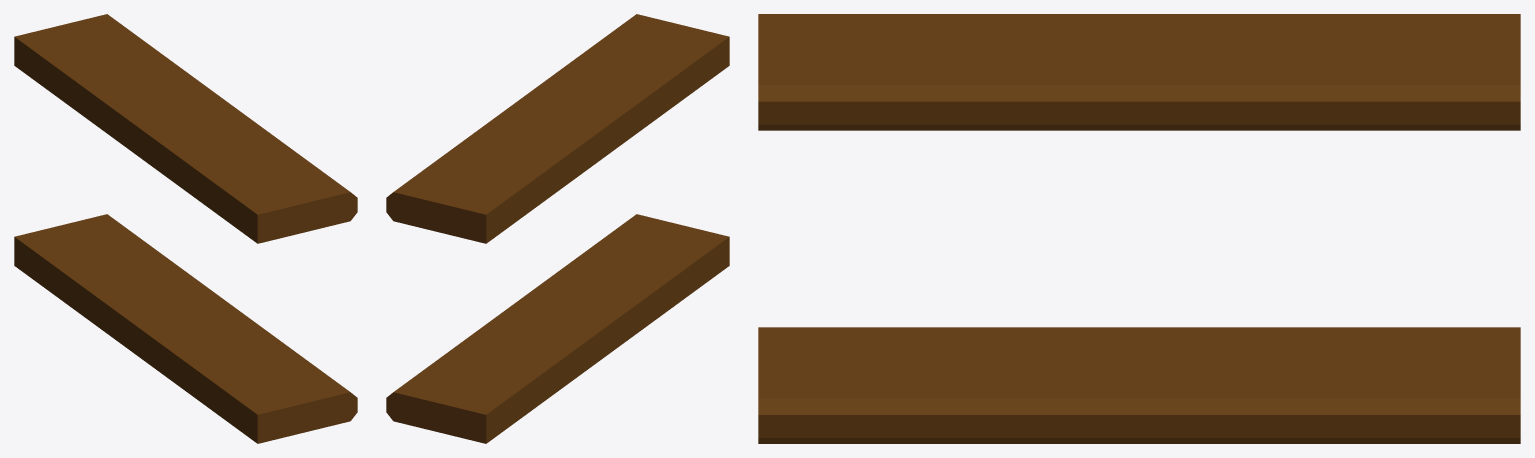
Rendered from SM_Shelves_v2.fbx.
3 views of the same model, side by side, from view 1: azimuth 30°, elevation 25°; view 2: azimuth 150°, elevation 25°; view 3: azimuth 270°, elevation 25° (orthographic). The views are drawn at different scales.
Visible parts, largest first — view 1: SM_Shelves_v2; view 2: SM_Shelves_v2; view 3: SM_Shelves_v2.
Part boxes in pixels (x1,y1,x2,y2): SM_Shelves_v2: [14, 14, 357, 443]; SM_Shelves_v2: [386, 14, 729, 443]; SM_Shelves_v2: [758, 14, 1520, 443].
Size of the model in its own units: 23.69 by 51.95 by 100.
